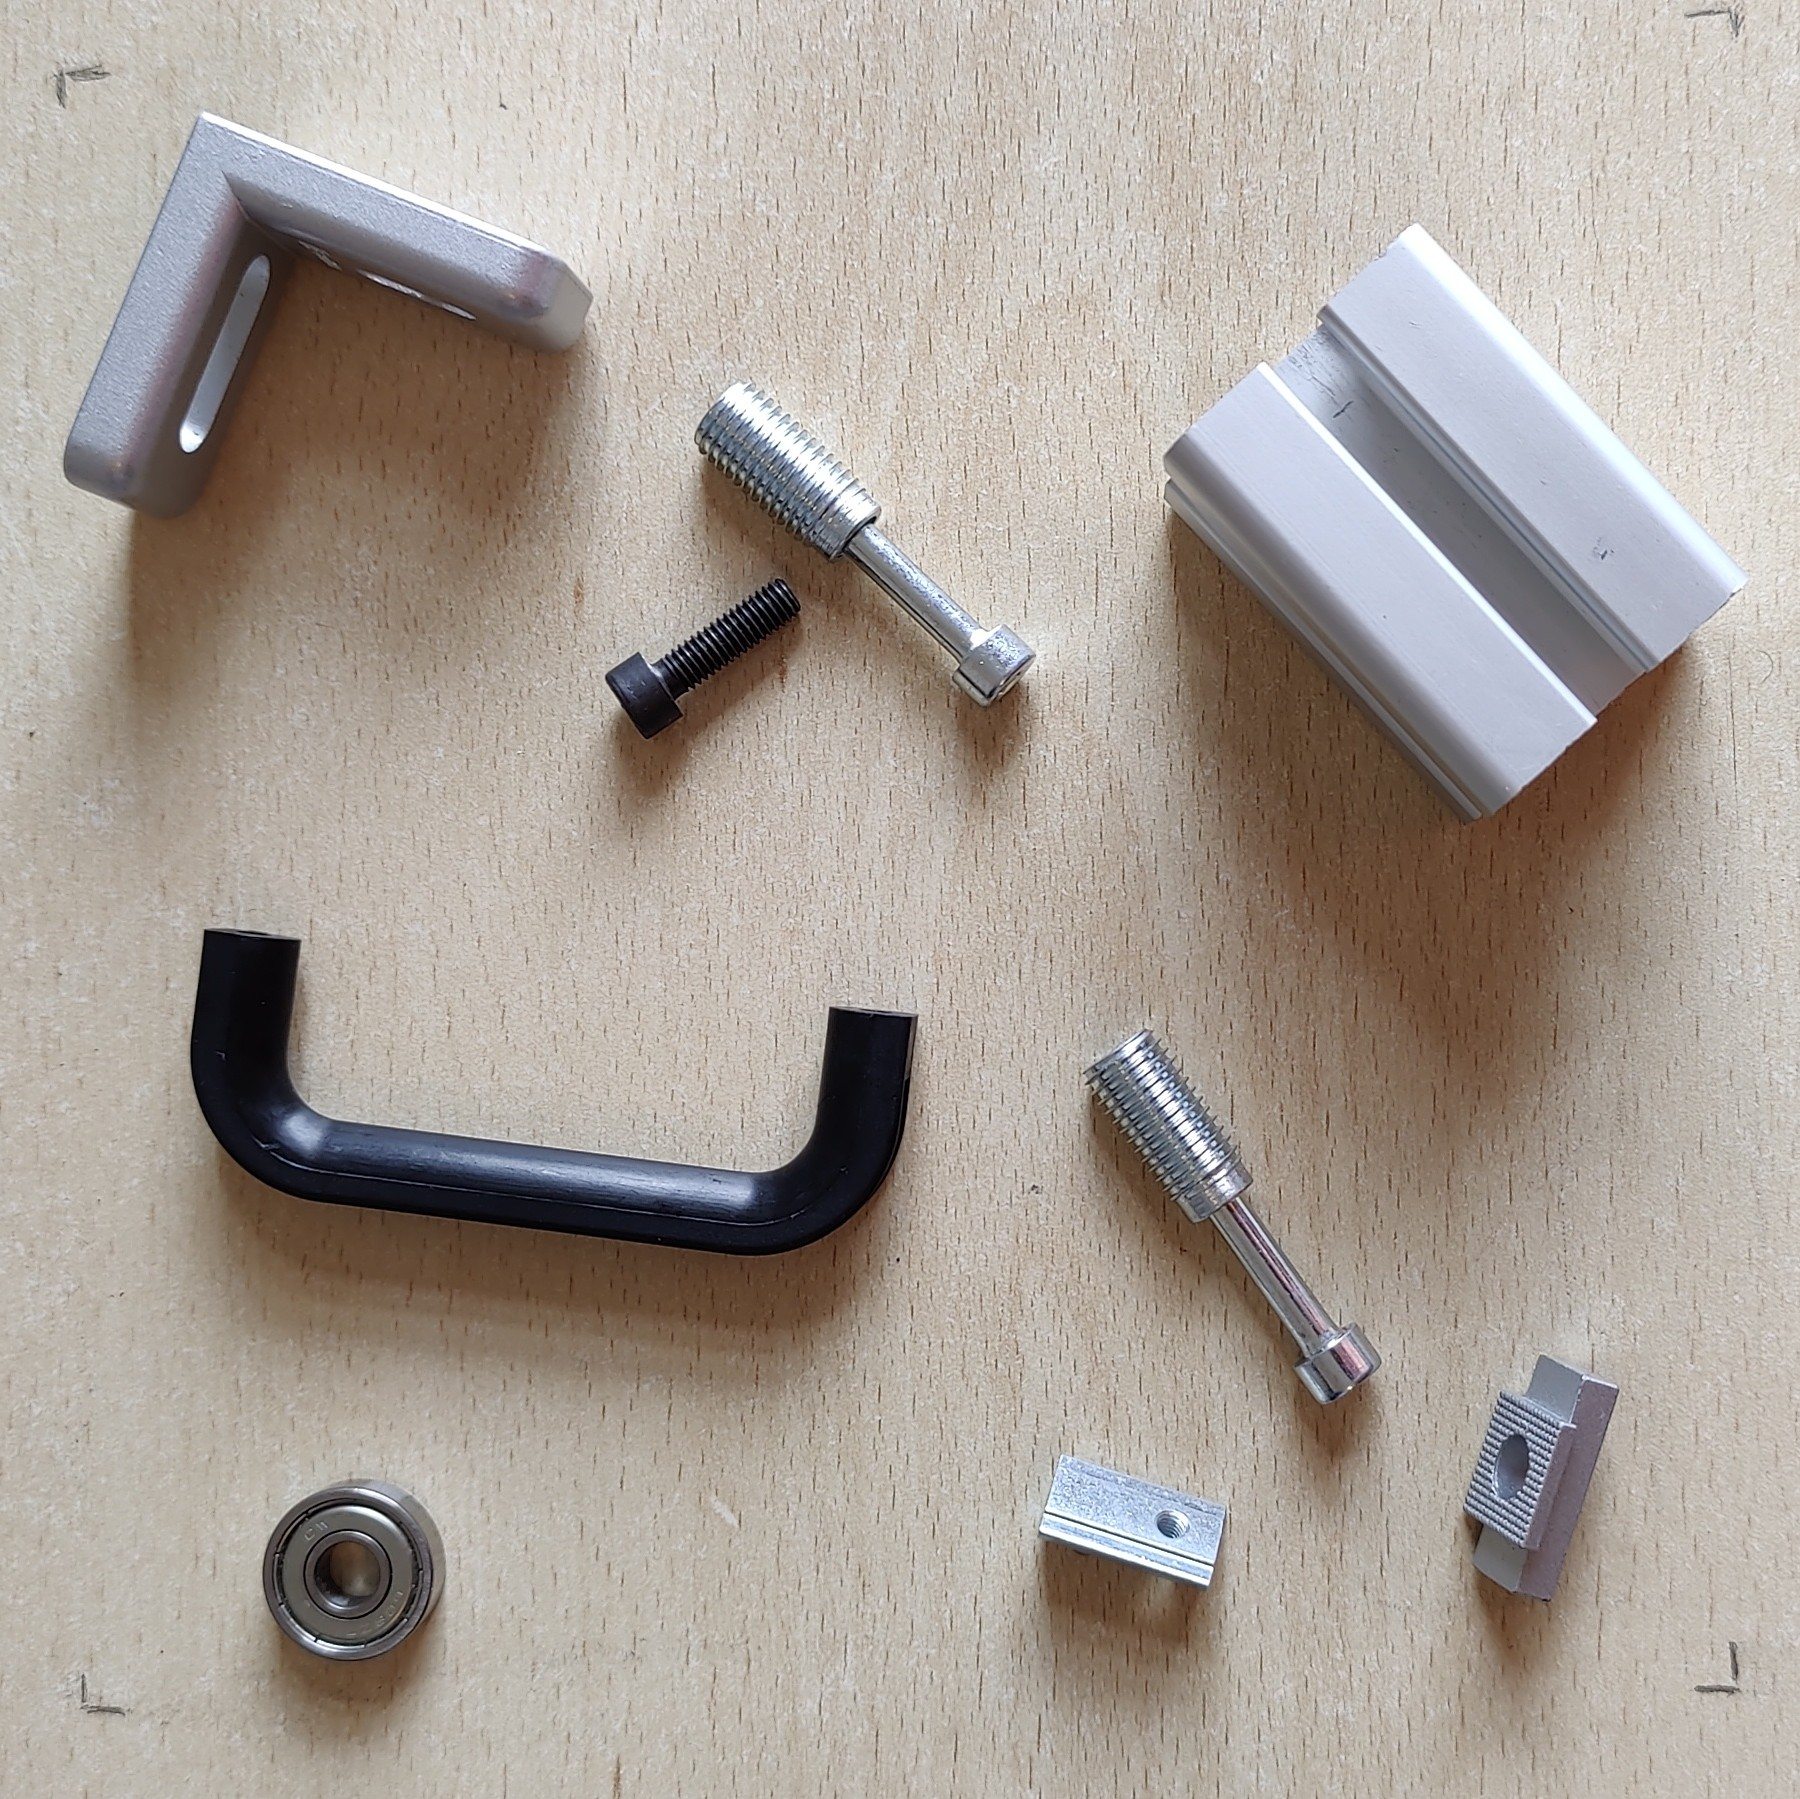Aluminium Extension: (1159, 222, 1752, 827)
Ball Bearing: (260, 1481, 448, 1666)
Multiwinkel: (61, 107, 598, 522)
Pull Handle: (186, 926, 921, 1260)
Shoulder Socket Head Cap Screw: (693, 376, 1039, 712), (1079, 1026, 1383, 1407)
Socket Head Cap Screw: (603, 572, 804, 741)
T Nut Square: (1459, 1349, 1620, 1605)
T Spring Nut: (1034, 1451, 1232, 1588)
